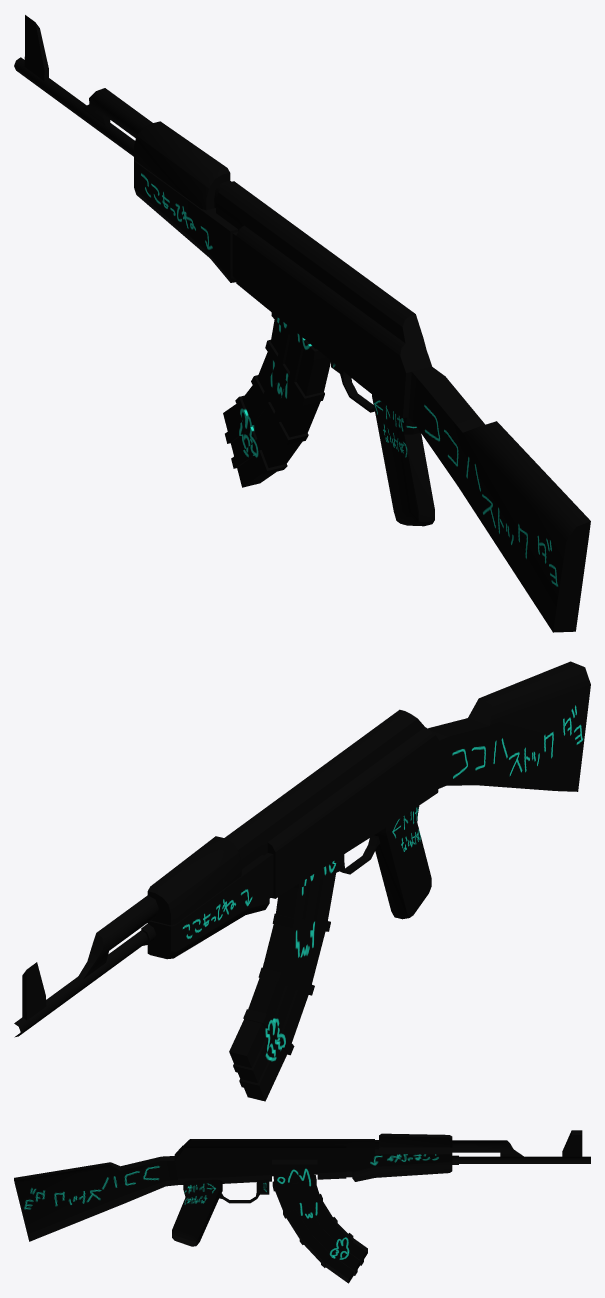
Rendered from mox47_13.glb.
3 views of the same model, one above another, from view 1: azimuth 30°, elevation 25°; view 2: azimuth 150°, elevation 25°; view 3: azimuth 270°, elevation 25° (orthographic). The views are drawn at different scales.
Visible parts, largest first — view 1: gun, mag.001; view 2: gun, mag.001; view 3: gun, mag.001.
Boxes of the visible parts, x1=… form: gun: x1=14, y1=15, x2=590, y2=632; mag.001: x1=223, y1=312, x2=330, y2=487; gun: x1=14, y1=661, x2=590, y2=1037; mag.001: x1=229, y1=859, x2=340, y2=1101; gun: x1=14, y1=1130, x2=590, y2=1246; mag.001: x1=272, y1=1159, x2=367, y2=1283.
Bounding box in the file's own units: 0.023 × 0.2522 × 0.866.
Materials: 2 (2 with a texture image).
